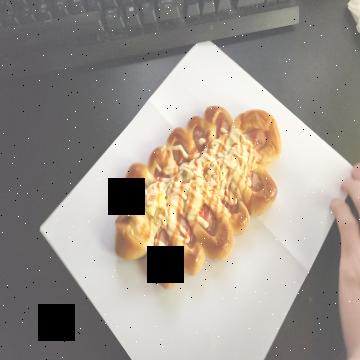pizza_bread: (114, 105, 280, 290)
